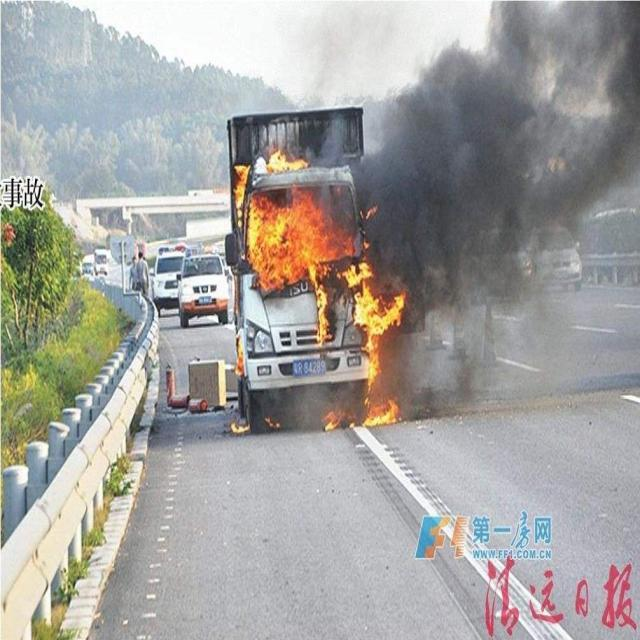Fire: (227, 151, 407, 436)
Smoke: (317, 1, 640, 419)
